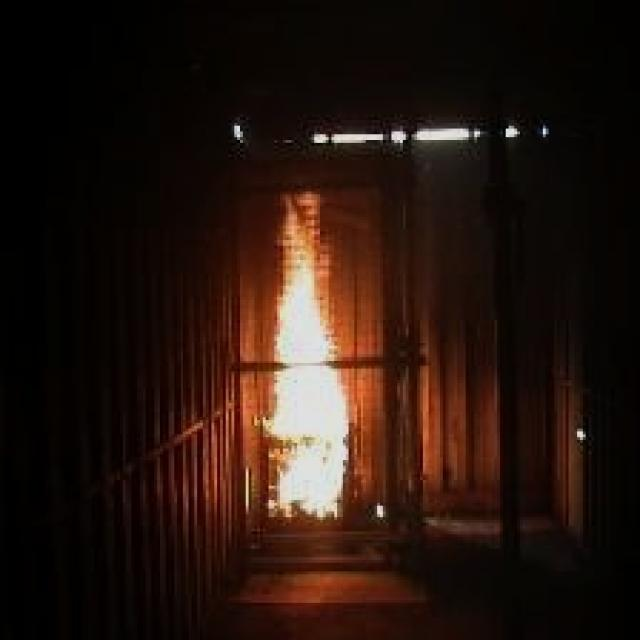fire: (254, 191, 354, 523)
